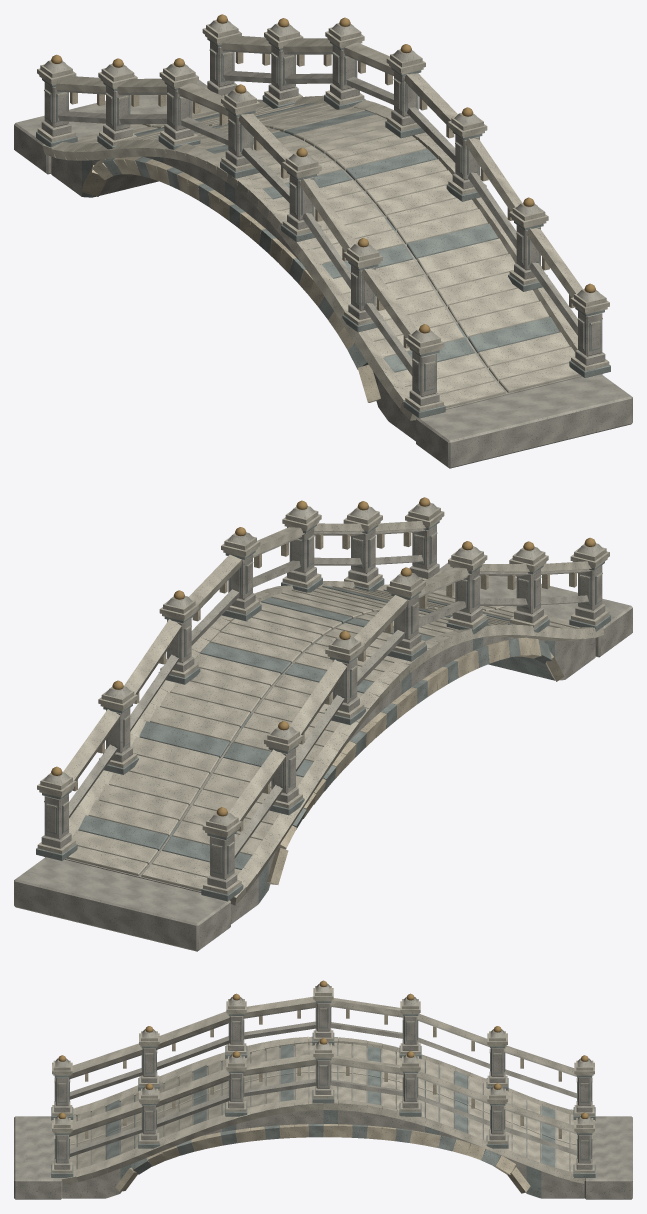
3 views of the same model, one above another, from view 1: azimuth 30°, elevation 25°; view 2: azimuth 150°, elevation 25°; view 3: azimuth 270°, elevation 25° (orthographic). The views are drawn at different scales.
Parts seen in each view (by area): view 1: C14_light, C14_stone, C14_cool, C14_relief, C14_motif; view 2: C14_light, C14_stone, C14_cool, C14_relief, C14_motif; view 3: C14_light, C14_stone, C14_cool, C14_relief, C14_motif.
Part boxes in pixels (x1,y1,x2,y2): C14_light: [37, 24, 609, 420]; C14_stone: [14, 20, 632, 468]; C14_cool: [36, 38, 610, 418]; C14_relief: [70, 52, 575, 402]; C14_motif: [51, 14, 595, 333]; C14_light: [37, 507, 609, 905]; C14_stone: [14, 503, 632, 951]; C14_cool: [36, 521, 610, 903]; C14_relief: [71, 532, 576, 884]; C14_motif: [51, 497, 595, 816]; C14_light: [52, 986, 594, 1184]; C14_stone: [14, 983, 632, 1199]; C14_cool: [51, 1001, 595, 1198]; C14_relief: [85, 1009, 561, 1193]; C14_motif: [58, 980, 588, 1118].
Bounding box in the file's own units: 2.84 × 3.09 × 10.9.
Materials: 5 (4 with a texture image).
